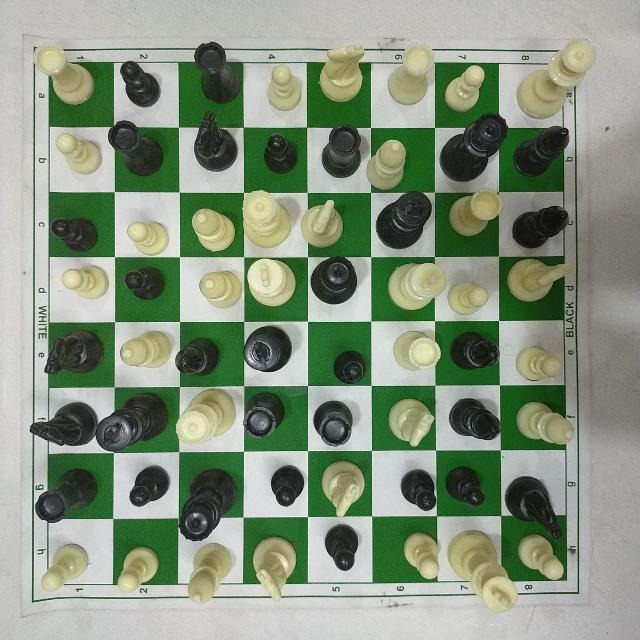black-bishop: (513, 127, 571, 177), (512, 205, 569, 249), (448, 397, 500, 444), (451, 332, 501, 371), (175, 337, 223, 375)
black-king: (97, 395, 167, 453), (375, 192, 432, 250), (242, 325, 292, 373)
black-knight: (503, 476, 567, 538), (29, 402, 97, 446), (46, 331, 104, 377), (192, 111, 237, 170)
black-pawn: (119, 61, 161, 105), (323, 522, 359, 570), (51, 216, 99, 252), (129, 466, 169, 508), (444, 467, 485, 507), (124, 264, 166, 301), (400, 468, 436, 511), (262, 132, 298, 174), (272, 465, 304, 506), (333, 352, 366, 384)
black-queen: (439, 112, 509, 184), (180, 469, 238, 543), (309, 254, 358, 304)
black-rook: (34, 468, 98, 523), (107, 119, 165, 176), (194, 40, 242, 103), (320, 122, 362, 178), (244, 393, 284, 441), (314, 402, 352, 446)
white-bishop: (186, 543, 231, 603), (516, 401, 576, 445), (120, 328, 172, 370), (366, 138, 408, 189), (192, 205, 236, 252), (198, 270, 240, 310)
white-king: (446, 528, 518, 615), (387, 263, 445, 311), (248, 259, 295, 306)
white-knight: (509, 256, 573, 306), (254, 534, 298, 601), (317, 43, 366, 100), (387, 396, 433, 448), (322, 462, 365, 514), (300, 199, 344, 248)
white-pawn: (515, 532, 563, 580), (40, 542, 88, 590), (55, 128, 102, 176), (117, 546, 159, 594), (443, 64, 487, 109), (60, 263, 110, 299), (263, 63, 300, 110), (124, 218, 170, 255), (515, 346, 561, 382), (405, 531, 439, 579), (447, 281, 489, 315)
white-queen: (516, 38, 597, 118), (174, 388, 236, 444), (241, 190, 291, 250)
white-rook: (31, 41, 98, 106), (387, 42, 434, 105), (449, 189, 503, 238), (393, 331, 440, 371)
